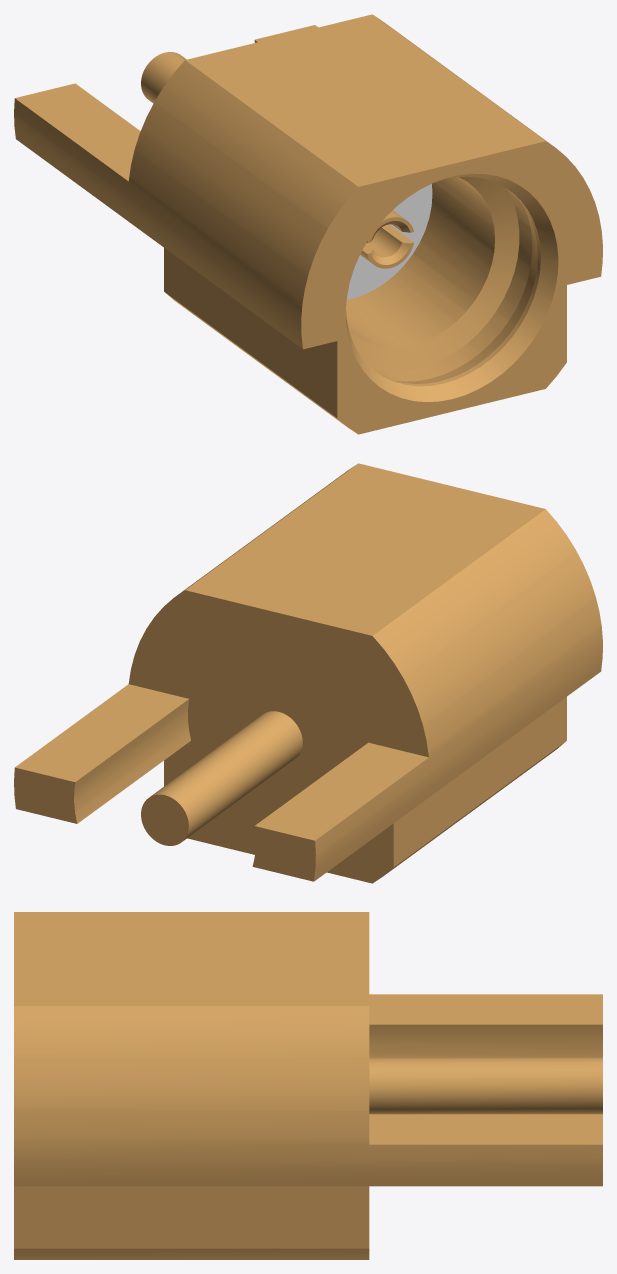
File: mmcx_female.glb
3 renders of one model, top to bottom at view 1: azimuth 30°, elevation 25°; view 2: azimuth 150°, elevation 25°; view 3: azimuth 270°, elevation 25°, orthographic. The views are drawn at different scales.
Parts seen in each view (by area): view 1: mmcx_female; view 2: mmcx_female; view 3: mmcx_female.
Boxes of the visible parts, x1=… form: mmcx_female: x1=14, y1=14, x2=602, y2=434; mmcx_female: x1=14, y1=463, x2=602, y2=883; mmcx_female: x1=14, y1=912, x2=602, y2=1259.
Bounding box in the file's own units: 0.447 × 0.3505 × 0.7366.
